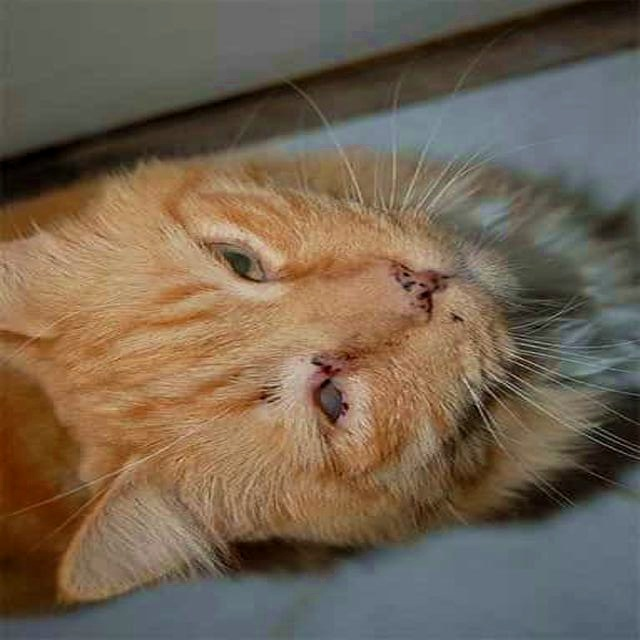eye_infection: (312, 367, 353, 421)
